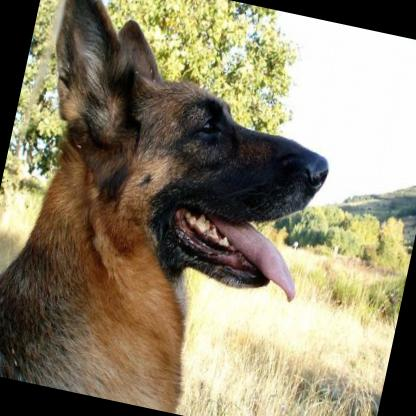German_shepherd: (0, 0, 356, 416)
